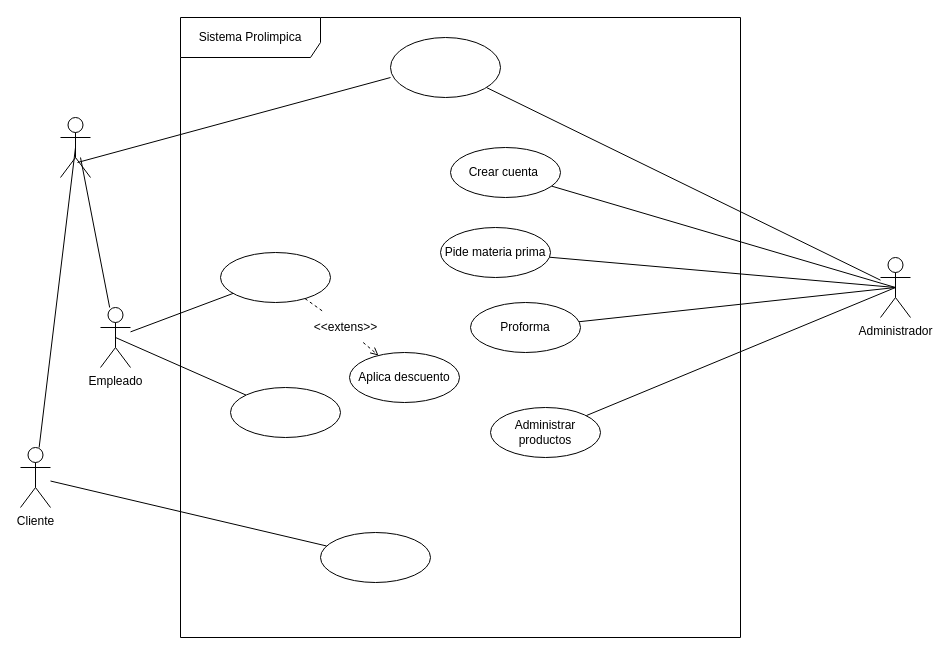
Image size: 950x655. Some labels were removed from this diagram. Here are the shapes that lost their labels. From the top down, the centre of each, then its label:
(445,67): Iniciar sesión
(75,147): Usuario
(275,277): Elabora factura
(285,412): Actualiza inventario
(375,557): Realizar Pedido
